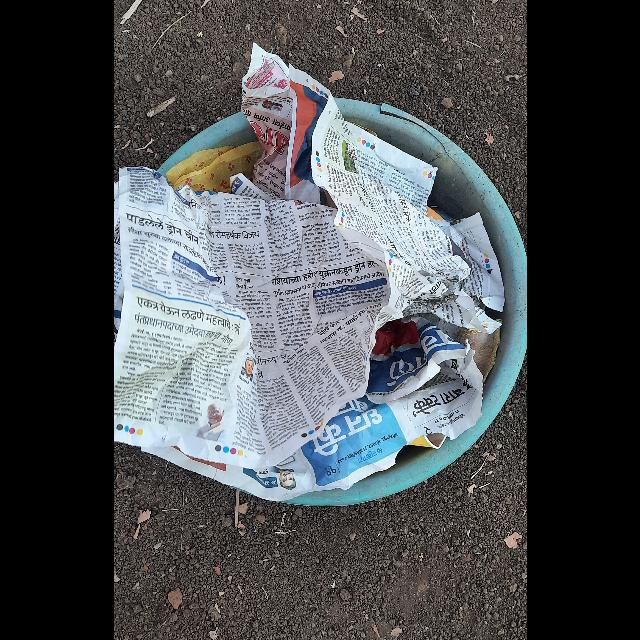trash: (113, 42, 505, 504)
